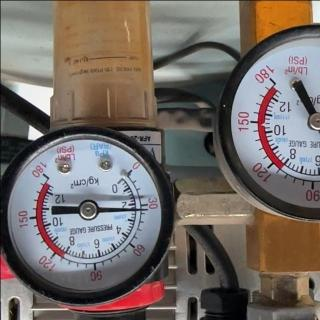gauge: (1, 119, 175, 313), (213, 13, 320, 227), (77, 199, 99, 221), (118, 160, 140, 182), (262, 69, 282, 91), (34, 166, 54, 184), (307, 111, 319, 131), (141, 204, 151, 212)
